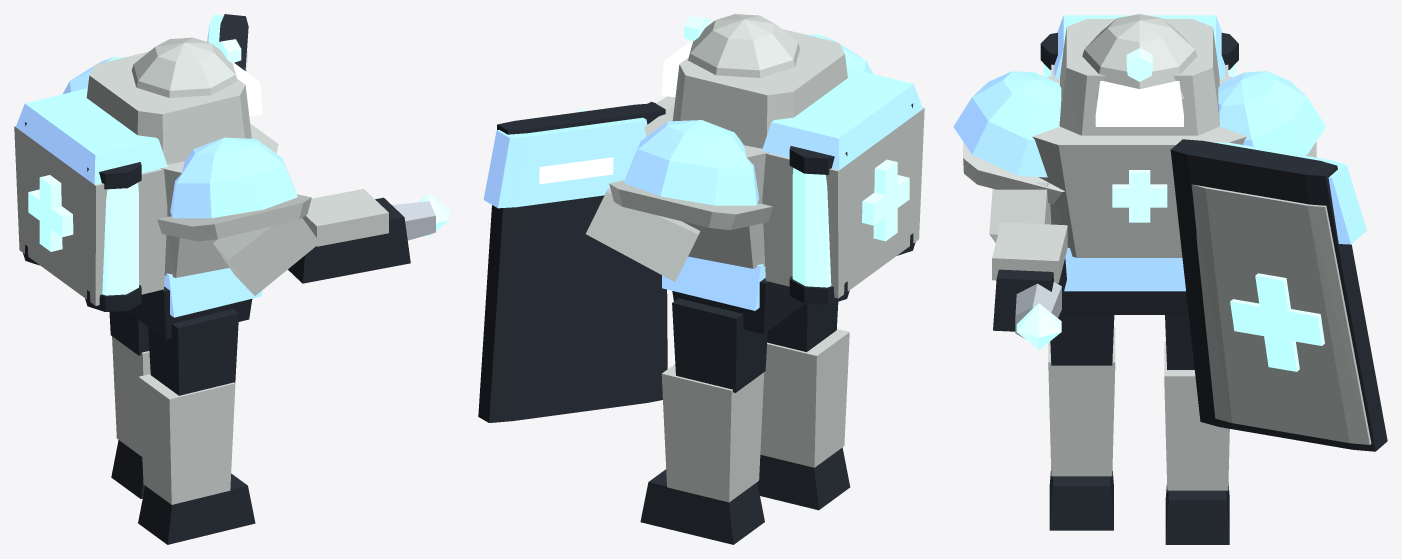
The model's file is triage_specialist.glb.
The picture shows the model from 3 angles, left to right: view 1: azimuth 30°, elevation 25°; view 2: azimuth 150°, elevation 25°; view 3: azimuth 270°, elevation 25°; orthographic projection. The views are drawn at different scales.
Visible parts, largest first — view 1: Surf_white, Surf_TEAM, RightLeg_Surf_dark, RightLeg_Surf_white, Surf_dark, Surf_mint, LeftLeg_Surf_white, LeftLeg_Surf_dark, Surf_light, Surf_visor; view 2: Surf_dark, Surf_white, Surf_TEAM, LeftLeg_Surf_dark, LeftLeg_Surf_white, RightLeg_Surf_white, Surf_mint, RightLeg_Surf_dark, Surf_visor; view 3: Surf_white, Surf_dark, Surf_TEAM, Surf_mint, RightLeg_Surf_white, RightLeg_Surf_dark, LeftLeg_Surf_white, LeftLeg_Surf_dark, Surf_visor, Surf_light.
Part boxes in pixels (box(x1,y1,x2,y2)): Surf_white: box(14, 37, 388, 305); Surf_TEAM: box(16, 14, 297, 317); RightLeg_Surf_dark: box(138, 309, 255, 544); RightLeg_Surf_white: box(138, 374, 235, 504); Surf_dark: box(23, 14, 410, 339); Surf_mint: box(28, 39, 449, 295); LeftLeg_Surf_white: box(112, 336, 150, 456); LeftLeg_Surf_dark: box(109, 311, 149, 498); Surf_light: box(392, 201, 435, 240); Surf_visor: box(232, 63, 262, 116); Surf_dark: box(478, 101, 915, 422); Surf_white: box(586, 14, 924, 298); Surf_TEAM: box(483, 34, 922, 310); LeftLeg_Surf_dark: box(640, 298, 767, 544); LeftLeg_Surf_white: box(661, 364, 764, 502); RightLeg_Surf_white: box(760, 329, 849, 467); Surf_mint: box(577, 15, 909, 287); RightLeg_Surf_dark: box(757, 302, 850, 510); Surf_visor: box(539, 41, 692, 184); Surf_white: box(963, 14, 1371, 444); Surf_dark: box(993, 32, 1387, 451); Surf_TEAM: box(953, 15, 1366, 291); Surf_mint: box(1016, 48, 1324, 371); RightLeg_Surf_white: box(1048, 327, 1115, 476); RightLeg_Surf_dark: box(1049, 303, 1114, 530); LeftLeg_Surf_white: box(1164, 341, 1229, 490); LeftLeg_Surf_dark: box(1165, 315, 1229, 544); Surf_visor: box(1095, 81, 1183, 126); Surf_light: box(1015, 282, 1061, 338).
Bounding box in the file's own units: 1.46 × 1.79 × 1.42.
